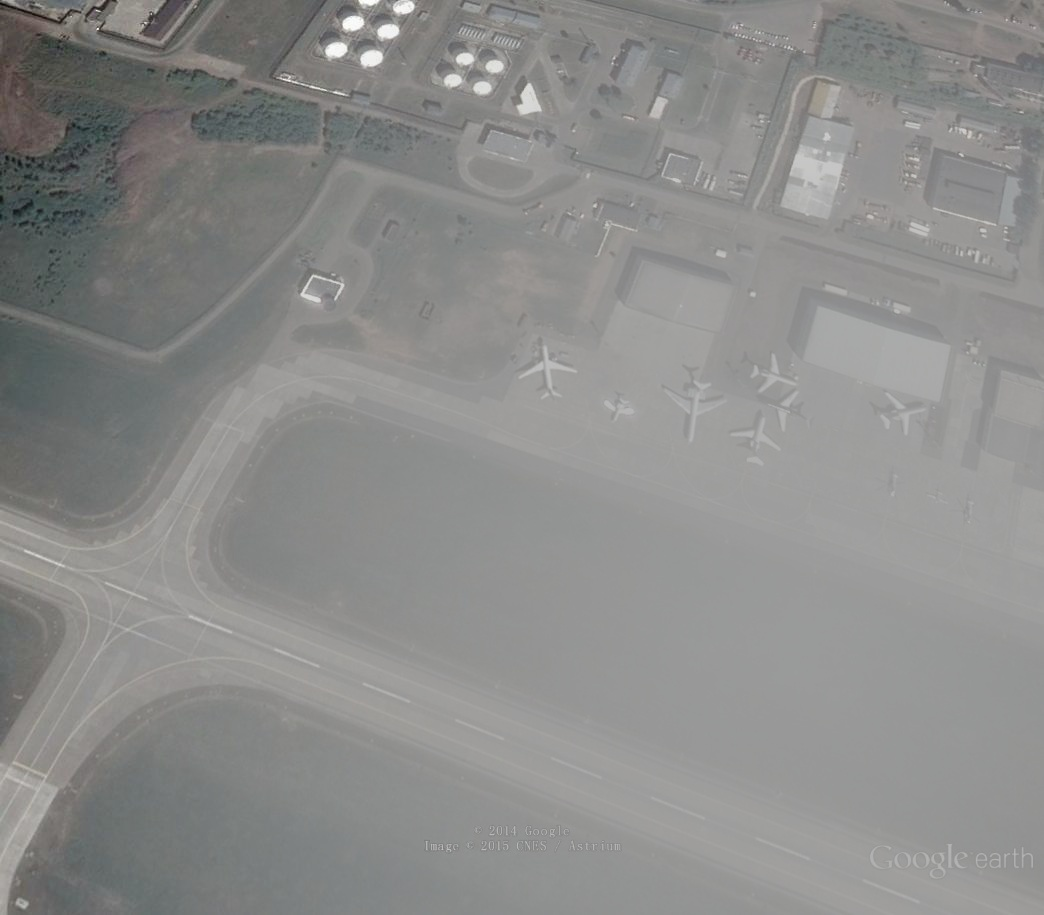aircraft: (661, 377, 728, 446), (517, 342, 585, 403), (729, 415, 784, 469), (875, 388, 931, 438), (765, 389, 815, 438), (749, 352, 800, 396), (600, 391, 639, 428), (924, 487, 953, 508)
